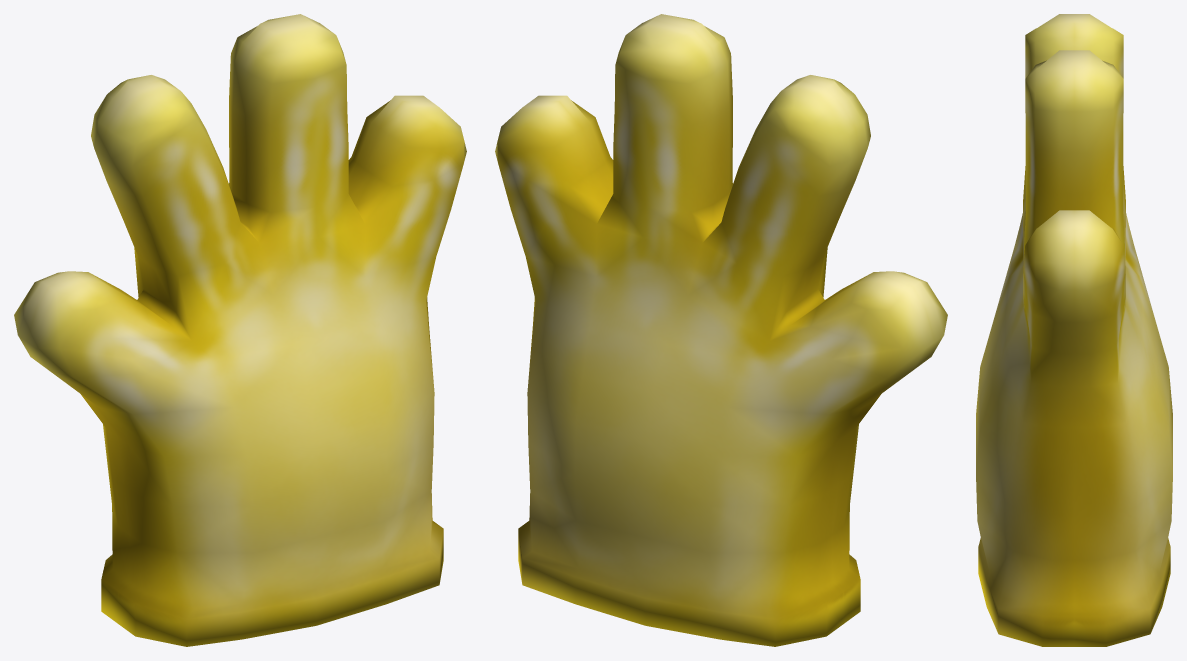
Rendered from RubberGlove.FBX.
3 renders of one model, left to right at view 1: azimuth 30°, elevation 25°; view 2: azimuth 150°, elevation 25°; view 3: azimuth 270°, elevation 25°, orthographic. The views are drawn at different scales.
Visible parts, largest first — view 1: RubberGlove; view 2: RubberGlove; view 3: RubberGlove.
Part boxes in pixels (x1,y1,x2,y2): RubberGlove: [14, 14, 466, 646]; RubberGlove: [495, 14, 947, 646]; RubberGlove: [976, 14, 1172, 646].
Size of the model in its own units: 61.53 by 75.9 by 25.86.
Materials: 1 (1 with a texture image).
